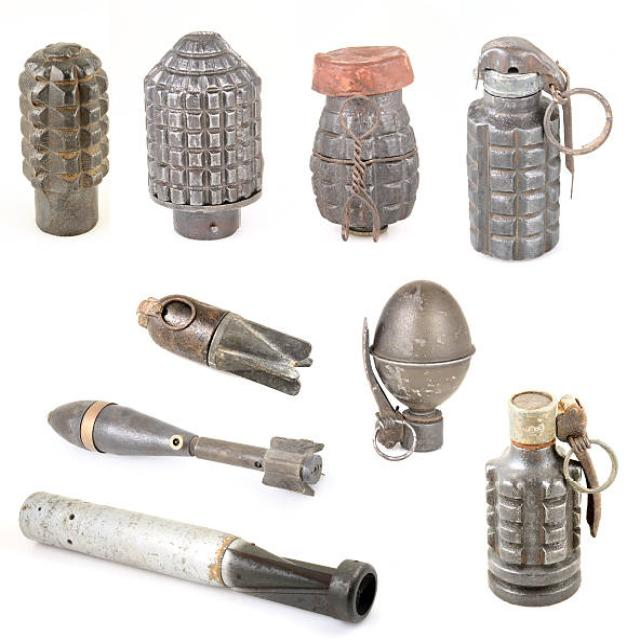grenade: (463, 32, 615, 267), (484, 384, 616, 611), (142, 29, 273, 245), (360, 276, 480, 464), (17, 41, 116, 245)
